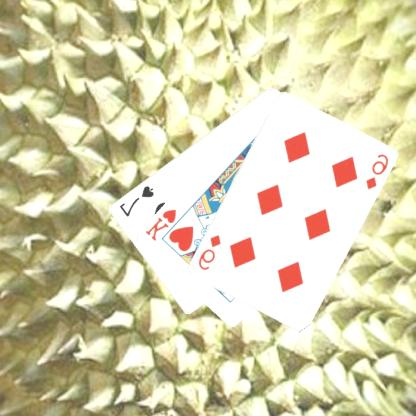6D: (364, 151, 392, 191), (197, 232, 224, 272)
7S: (118, 182, 158, 218)
KH: (144, 206, 180, 243)
